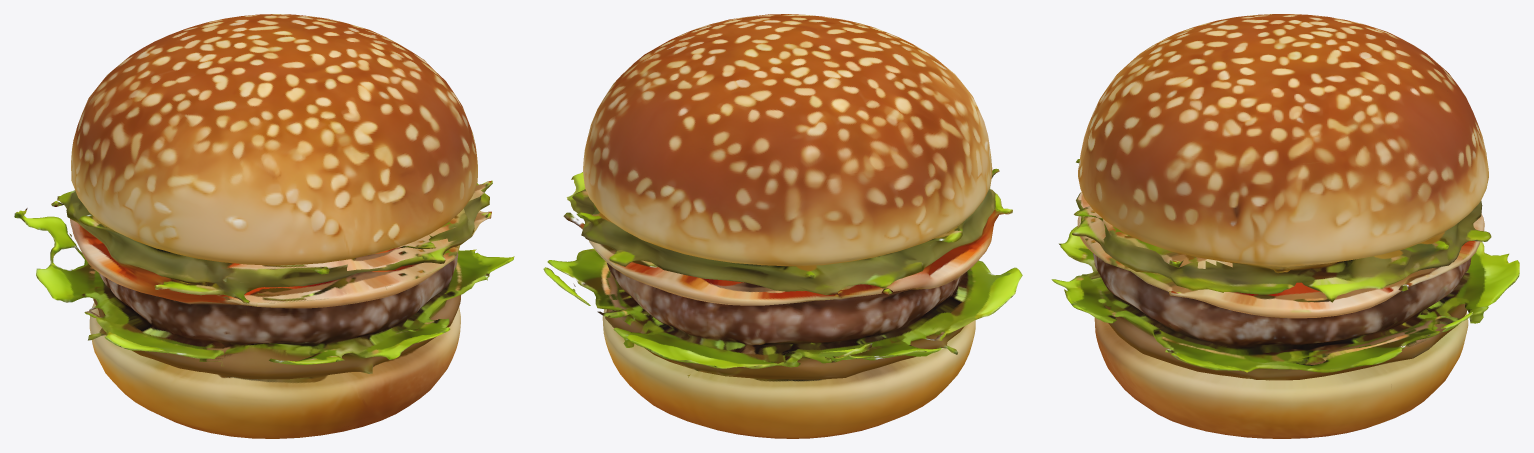
Rendered from sushi.glb.
3 renders of one model, left to right at view 1: azimuth 30°, elevation 25°; view 2: azimuth 150°, elevation 25°; view 3: azimuth 270°, elevation 25°, orthographic.
Visible parts, largest first — view 1: model; view 2: model; view 3: model.
Part boxes in pixels (x1,y1,x2,y2): model: (14, 14, 514, 438); model: (543, 14, 1022, 438); model: (1051, 14, 1519, 438).
Bounding box in the file's own units: 1.75 × 1.5 × 1.85.
Materials: 1 (1 with a texture image).
